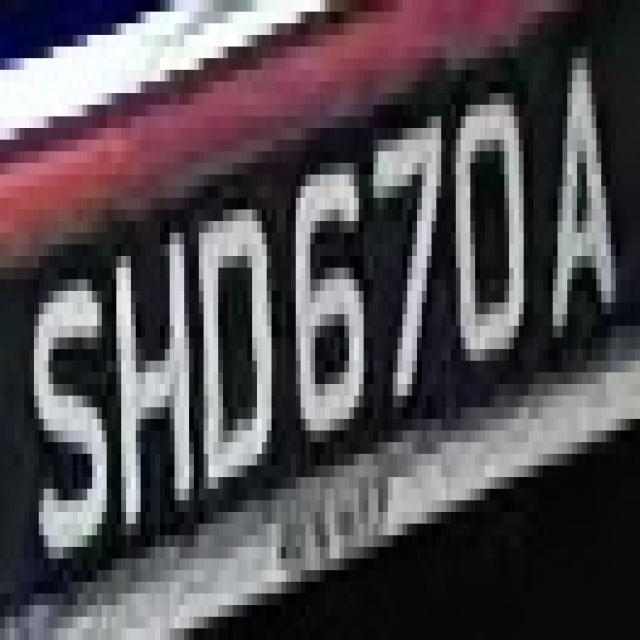0: (446, 70, 529, 372)
6: (282, 151, 374, 442)
7: (359, 93, 446, 419)
A: (528, 81, 620, 372)
D: (185, 163, 276, 477)
H: (111, 210, 199, 558)
S: (29, 232, 112, 558)
